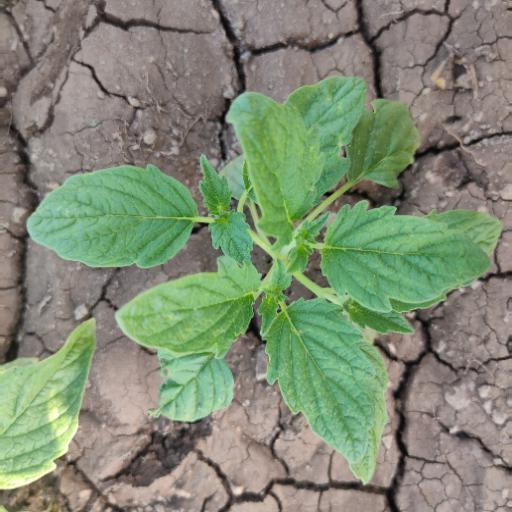crop: (23, 69, 503, 436)
